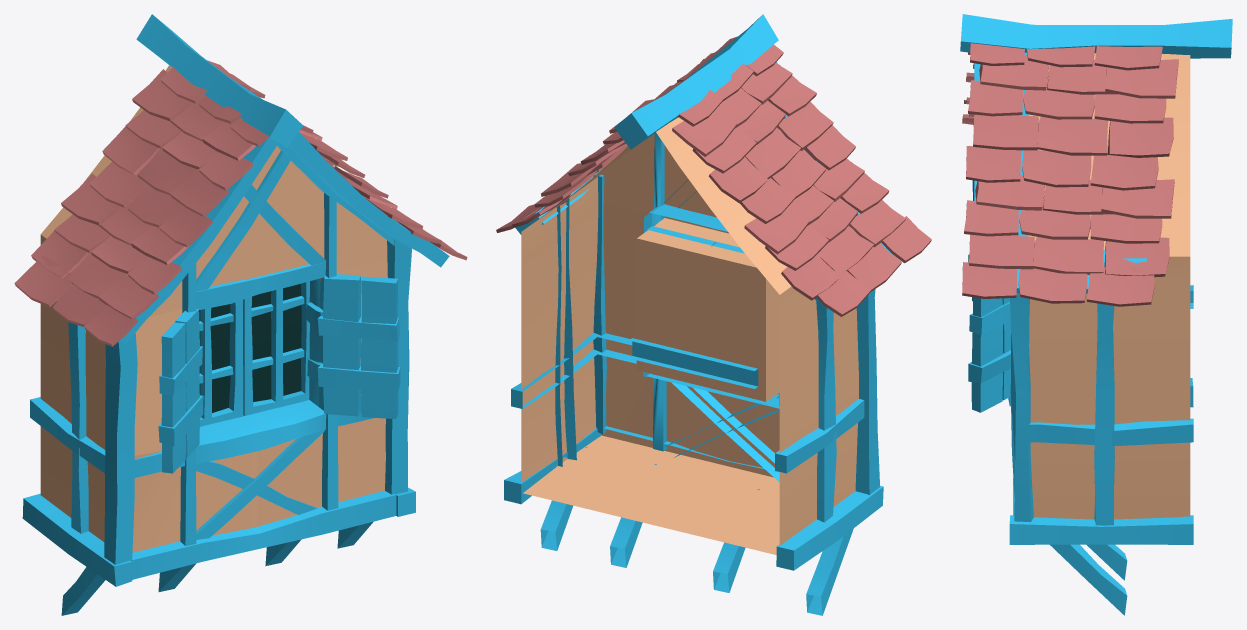
File: House_extension_02.fbx
3 views of the same model, side by side, from view 1: azimuth 30°, elevation 25°; view 2: azimuth 150°, elevation 25°; view 3: azimuth 270°, elevation 25° (orthographic). The views are drawn at different scales.
Visible parts, largest first — view 1: House_extension_02; view 2: House_extension_02; view 3: House_extension_02.
Boxes of the visible parts, x1,y1,x2,y2 form: House_extension_02: (14, 14, 467, 615); House_extension_02: (496, 14, 931, 615); House_extension_02: (960, 14, 1232, 615).
Bounding box in the file's own units: 618 × 873 × 407.
